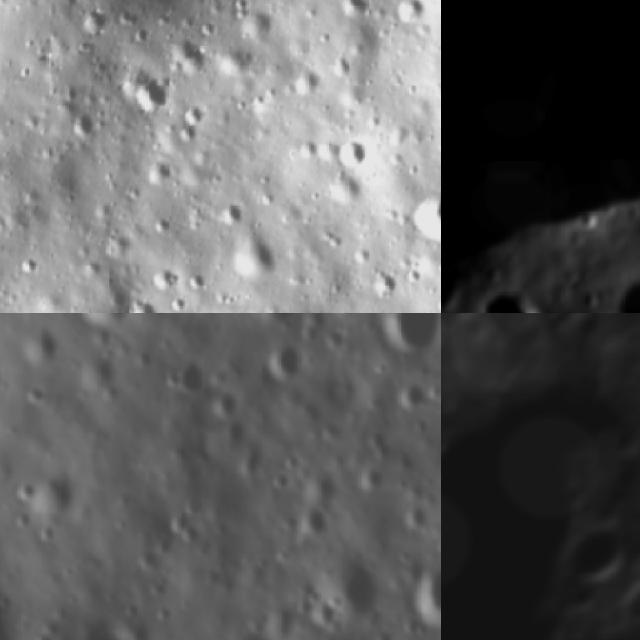crater: (441, 0, 640, 256), (547, 509, 640, 612), (13, 458, 84, 518), (326, 554, 385, 619), (404, 537, 441, 626), (368, 313, 441, 358), (220, 231, 278, 286), (393, 178, 441, 244), (50, 614, 149, 640), (14, 313, 62, 363), (609, 564, 640, 640), (128, 74, 179, 120), (258, 338, 310, 383), (166, 342, 208, 397), (291, 498, 332, 546), (382, 372, 428, 412), (162, 503, 206, 544), (223, 611, 282, 640), (474, 289, 542, 313), (233, 5, 277, 42), (202, 384, 243, 421), (384, 0, 427, 31), (329, 138, 367, 173), (71, 7, 110, 41), (66, 115, 100, 148), (351, 455, 387, 486), (398, 496, 430, 530), (79, 313, 139, 329), (239, 313, 312, 326), (331, 0, 369, 20), (266, 464, 291, 492), (281, 447, 299, 472)
